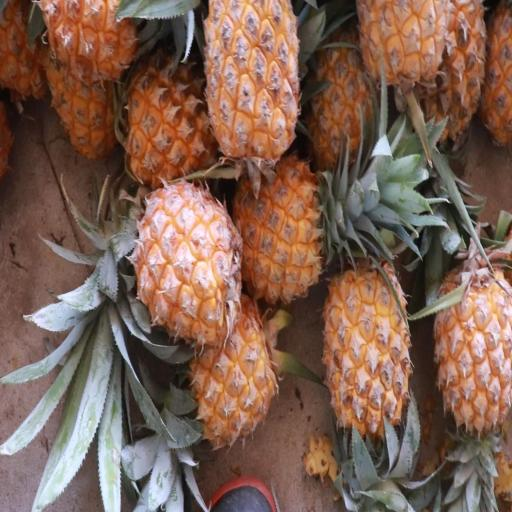Pineapple - v8 v1: (323, 248, 415, 458), (132, 181, 246, 350), (203, 0, 303, 170), (188, 281, 286, 454), (229, 145, 330, 308), (433, 243, 512, 444), (124, 46, 218, 195)
